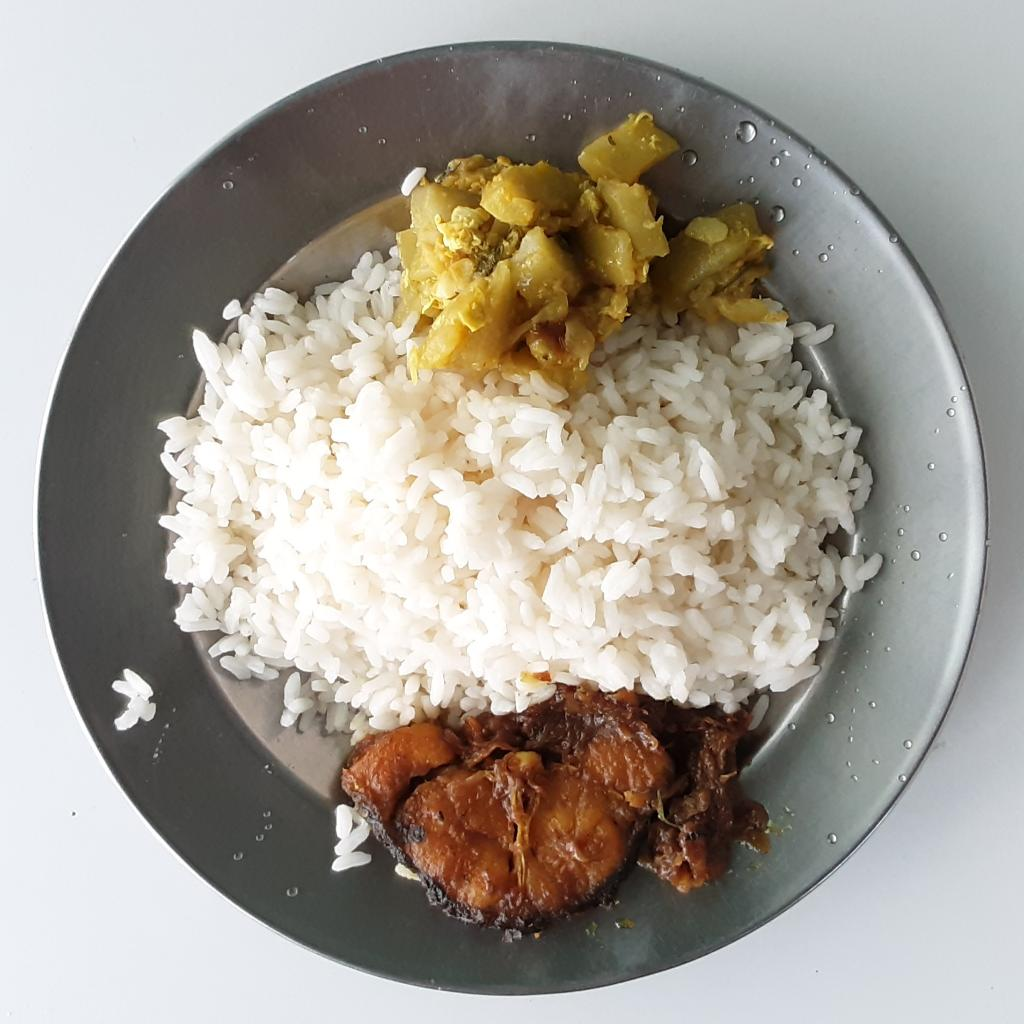fish: (334, 687, 755, 945)
lau: (396, 102, 784, 380)
rice: (151, 242, 886, 742)
